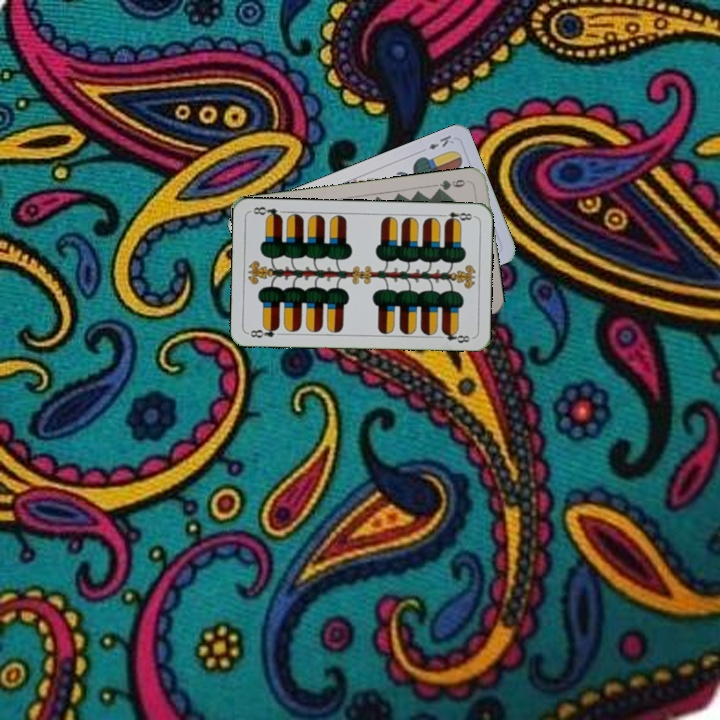E8: (245, 322, 286, 341), (436, 208, 477, 225)
EK: (424, 131, 457, 152)
G9: (433, 175, 472, 195)
